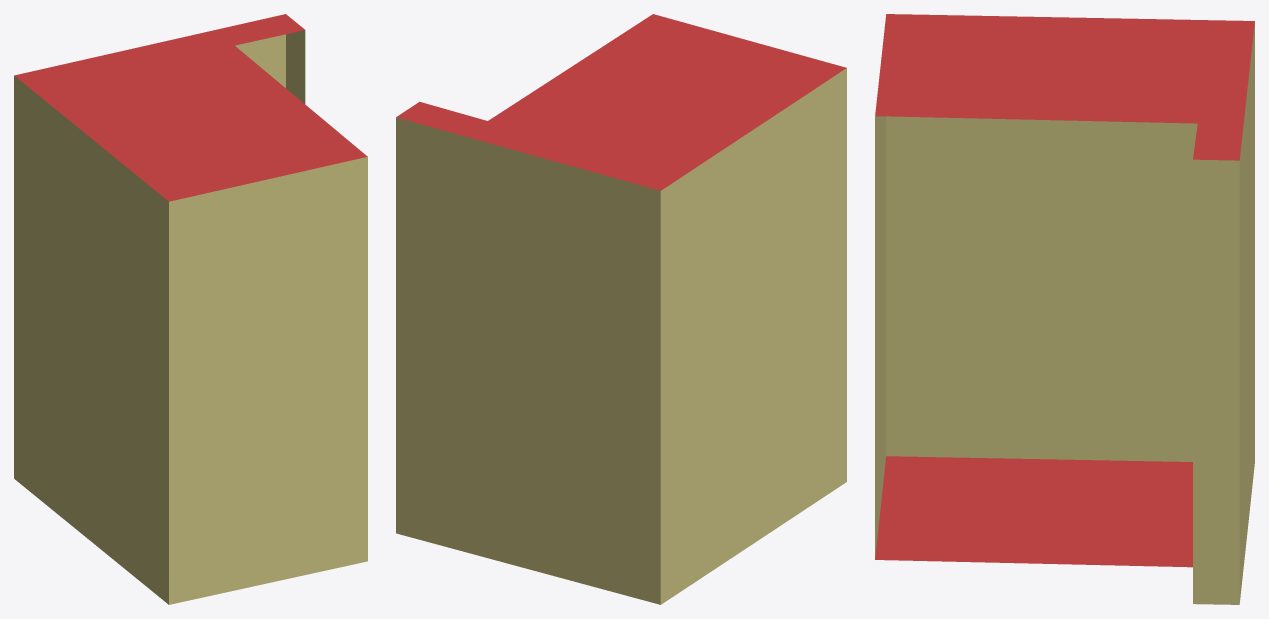
3 renders of one model, left to right at view 1: azimuth 30°, elevation 25°; view 2: azimuth 150°, elevation 25°; view 3: azimuth 270°, elevation 25°, orthographic. The views are drawn at different scales.
Parts seen in each view (by area): view 1: group_4, group_3; view 2: group_4, group_3; view 3: group_4, group_3, group_5.
Boxes of the visible parts, x1,y1,x2,y2 form: group_4: [14, 30, 367, 604]; group_3: [14, 14, 367, 201]; group_4: [396, 68, 846, 604]; group_3: [396, 14, 846, 190]; group_4: [875, 22, 1254, 604]; group_3: [875, 14, 1254, 160]; group_5: [875, 456, 1192, 567].
Size of the model in its own units: 7.02 by 7.58 by 9.78.
